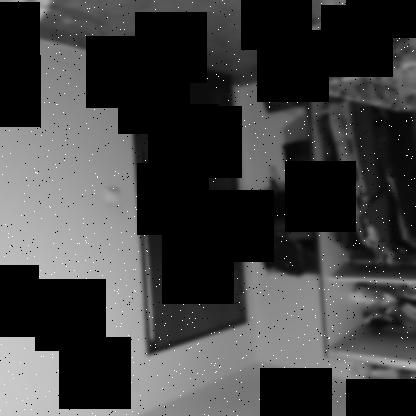Porte: (126, 46, 250, 355)
